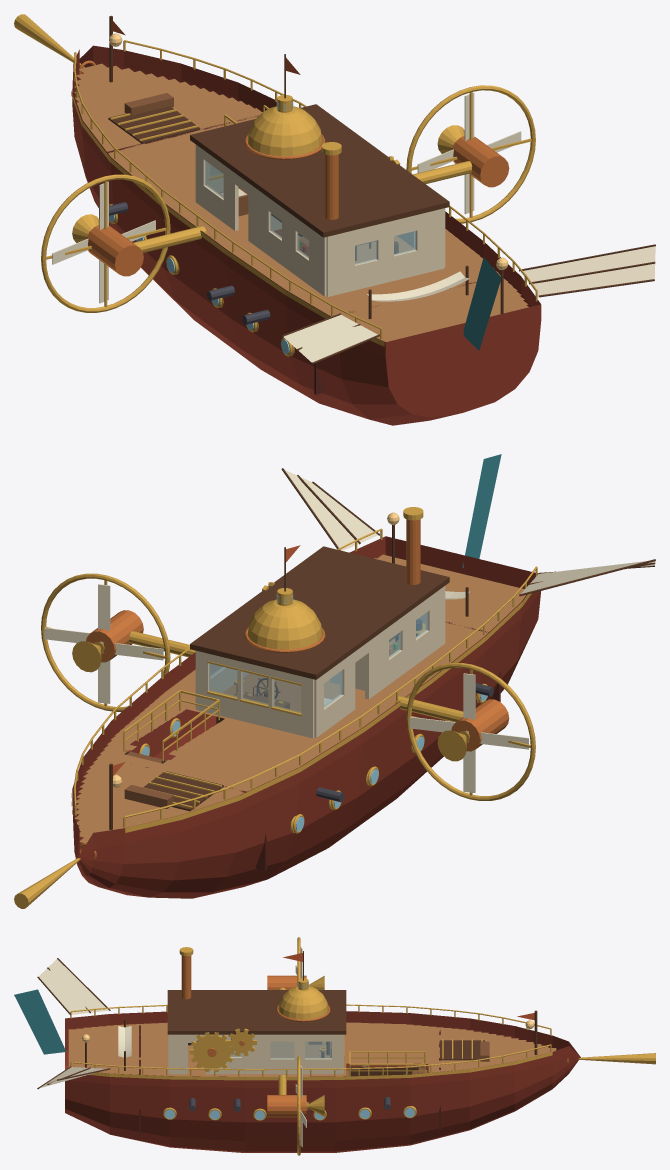
Rendered from airship.glb.
3 renders of one model, top to bottom at view 1: azimuth 30°, elevation 25°; view 2: azimuth 150°, elevation 25°; view 3: azimuth 270°, elevation 25°, orthographic. The views are drawn at different scales.
Parts seen in each view (by area): view 1: Thân tàu, Sàn boong, Mái bếp, Mái buồng lái, Cánh đuôi phải, Mái vòm đồng, Cánh đuôi trái, Vành cánh quạt L, Vành cánh quạt R, Vỏ động cơ L, Vây đuôi, Bếp tường sau 0 (+18 smaller); view 2: Thân tàu, Sàn boong, Mái bếp, Mái buồng lái, Mái vòm đồng, Vành cánh quạt L, Viền đồng mạn trái, Cánh đuôi phải, Vành cánh quạt R, Vây đuôi, Vỏ động cơ L, Vỏ động cơ R (+18 smaller); view 3: Thân tàu, Sàn boong, Mái bếp, Mái buồng lái, Viền đồng mạn phải, Cánh đuôi trái, Vây đuôi, Mái vòm đồng, Bánh răng lớn, Vỏ động cơ R, Nắp hầm, Bếp tường phải 0 (+16 smaller).
Boxes of the visible parts, x1,y1,x2,y2 form: Thân tàu: (72,45,541,425); Sàn boong: (74,63,528,341); Mái bếp: (252,153,449,237); Mái buồng lái: (190,104,383,188); Cánh đuôi phải: (520,246,655,295); Mái vòm đồng: (247,106,322,156); Cánh đuôi trái: (283,315,377,362); Vành cánh quạt L: (41,174,170,312); Vành cánh quạt R: (406,85,535,223); Vỏ động cơ L: (86,225,143,276); Vây đuôi: (463,257,501,350); Bếp tường sau 0: (326,230,354,296); Thân tàu: (72,536,540,898); Sàn boong: (74,554,525,842); Mái bếp: (257,546,449,630); Mái buồng lái: (190,595,383,679); Mái vòm đồng: (247,599,322,649); Vành cánh quạt L: (406,663,535,800); Viền đồng mạn trái: (125,593,531,832); Cánh đuôi phải: (285,470,378,550); Vành cánh quạt R: (41,573,170,711); Vây đuôi: (462,454,501,567); Vỏ động cơ L: (451,699,509,751); Vỏ động cơ R: (86,610,143,662); Thân tàu: (65,1011,580,1152); Sàn boong: (68,1022,556,1076); Mái bếp: (167,990,262,1034); Mái buồng lái: (256,990,346,1034); Viền đồng mạn phải: (65,1052,552,1080); Cánh đuôi trái: (38,959,108,1014); Vây đuôi: (14,989,66,1054); Mái vòm đồng: (278,986,328,1019); Bánh răng lớn: (193,1034,230,1068); Vỏ động cơ R: (267,1095,306,1117); Nắp hầm: (440,1040,484,1060); Bếp tường phải 0: (170,1034,187,1074).
Bounding box in the file's own units: 25.44 × 14.1 × 42.8.
